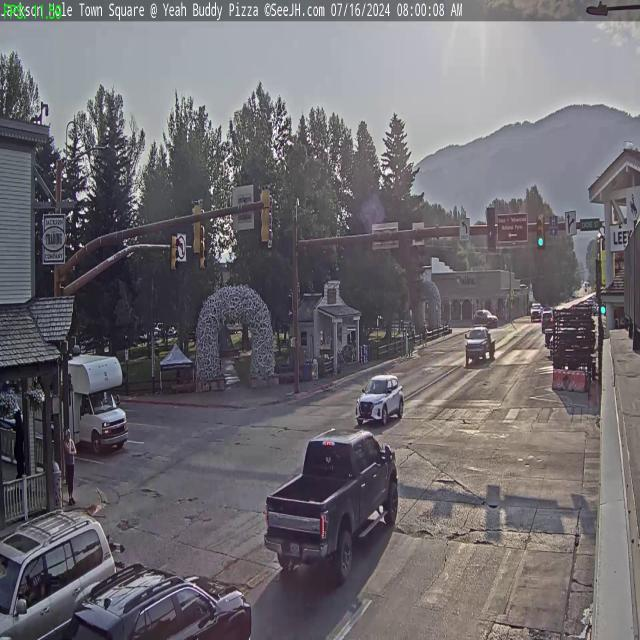person: (66, 426, 79, 506)
pickup: (261, 428, 401, 582)
suv: (2, 498, 108, 640), (79, 558, 254, 640), (356, 374, 405, 428), (464, 325, 493, 364)
traffic light: (260, 183, 272, 244), (191, 200, 203, 257), (486, 207, 497, 252), (170, 234, 180, 273), (537, 214, 545, 248)
truck: (36, 351, 130, 457)
